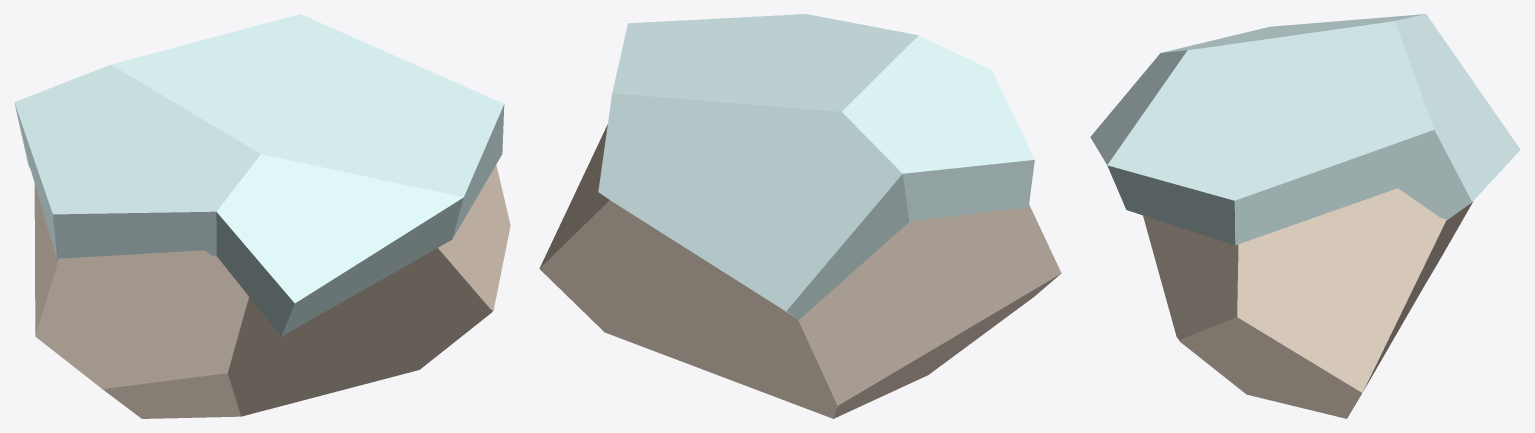
File: stone-snow.glb
The picture shows the model from 3 angles, left to right: view 1: azimuth 30°, elevation 25°; view 2: azimuth 150°, elevation 25°; view 3: azimuth 270°, elevation 25°; orthographic projection. The views are drawn at different scales.
Parts seen in each view (by area): view 1: stone-snow; view 2: stone-snow; view 3: stone-snow.
Boxes of the visible parts, x1=… form: stone-snow: x1=14, y1=14, x2=510, y2=418; stone-snow: x1=539, y1=14, x2=1061, y2=418; stone-snow: x1=1090, y1=14, x2=1520, y2=418.
Bounding box in the file's own units: 1.68 × 1.04 × 1.46.
Materials: 1 (1 with a texture image).
